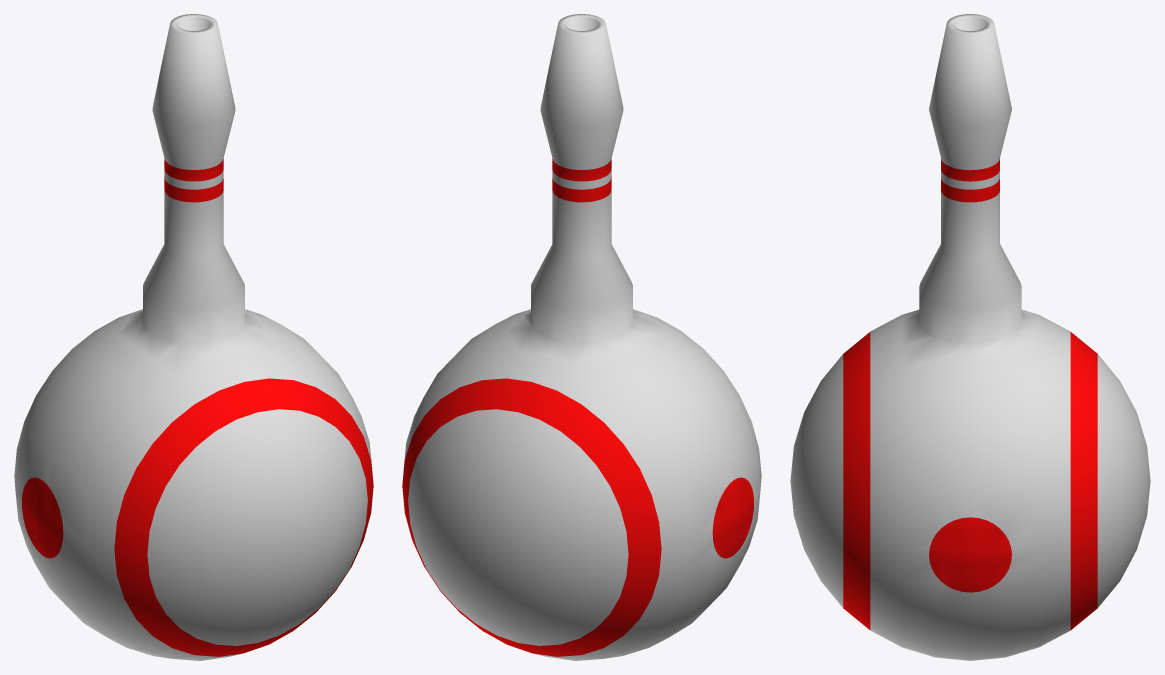
The model's file is LD_CannonMuzzle.fbx.
3 views of the same model, side by side, from view 1: azimuth 30°, elevation 25°; view 2: azimuth 150°, elevation 25°; view 3: azimuth 270°, elevation 25° (orthographic).
Parts seen in each view (by area): view 1: CannonMuzzle; view 2: CannonMuzzle; view 3: CannonMuzzle.
Boxes of the visible parts, x1,y1,x2,y2 form: CannonMuzzle: [14, 14, 373, 660]; CannonMuzzle: [402, 14, 761, 660]; CannonMuzzle: [790, 14, 1150, 660].
Size of the model in its own units: 12.01 by 22.8 by 12.
